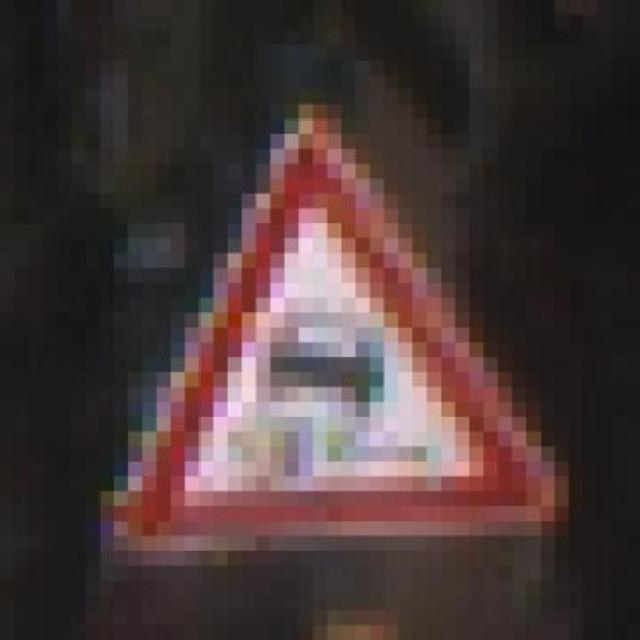Slippery Road Ahead: (99, 89, 584, 566)
